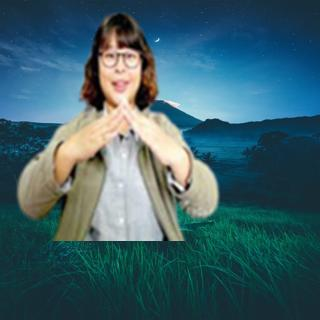HOME: (67, 97, 180, 167)
